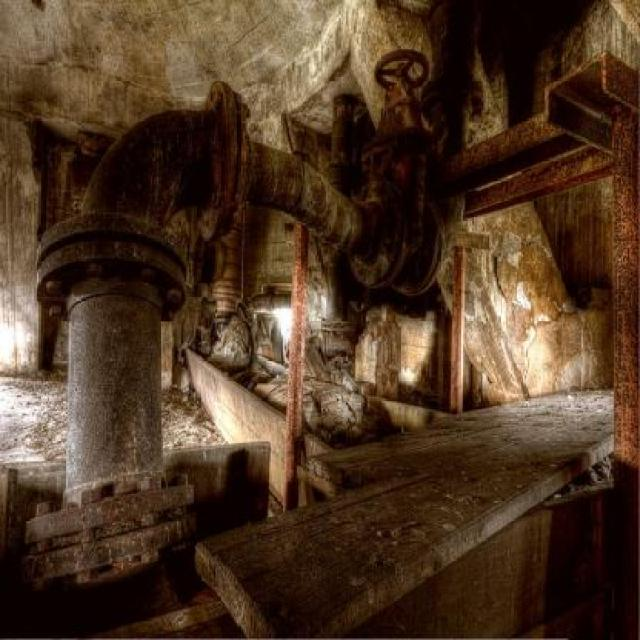corrosion: (38, 80, 640, 589)
